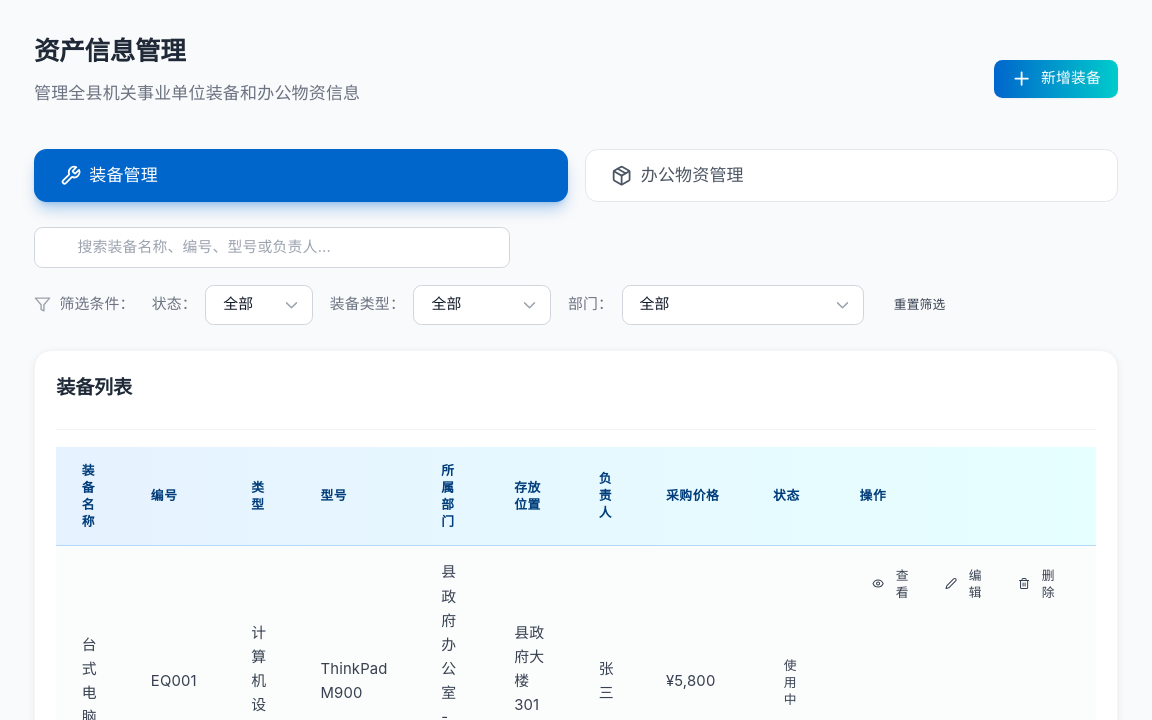
it: AssetManagement Page › renders supplies list with mock data
The image size is (1152, 720).
Click the button "办公物资管理" at x=692, y=174, box [584, 149, 1118, 202]
(page scrolled)
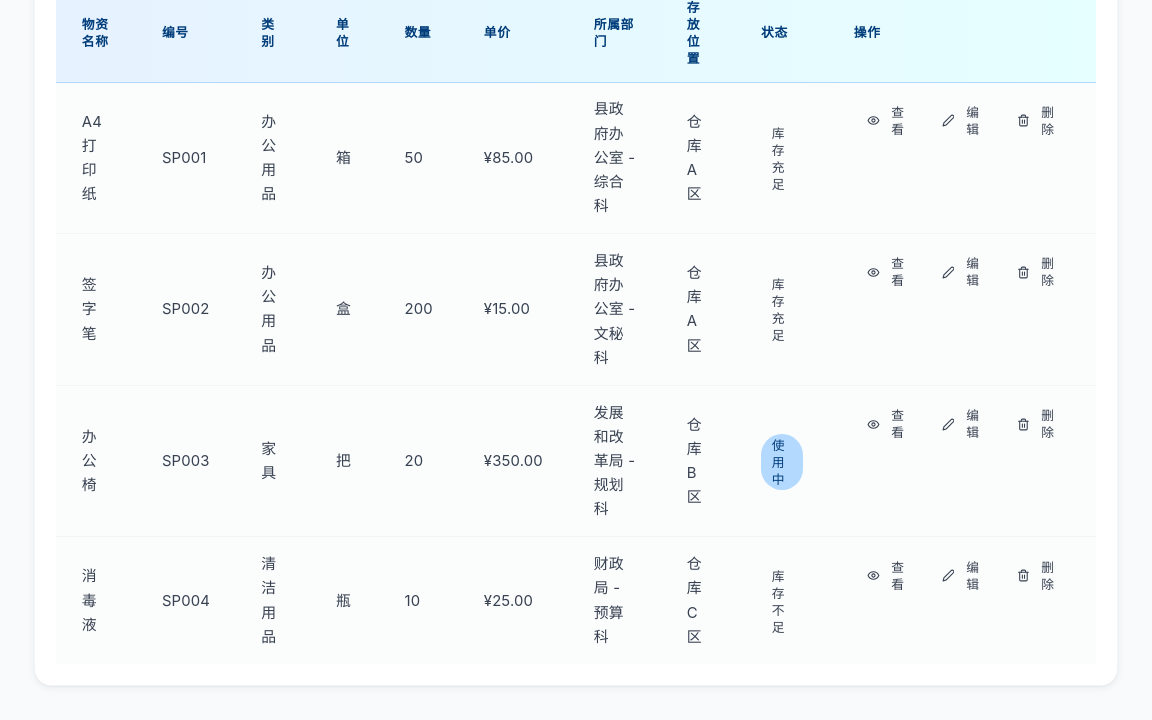
Expected: the text "A4打印纸" is shown, [56, 82, 136, 234]
Expected: the text "签字笔" is shown, [56, 234, 136, 385]
Expected: the text "办公椅" is shown, [56, 385, 136, 537]
